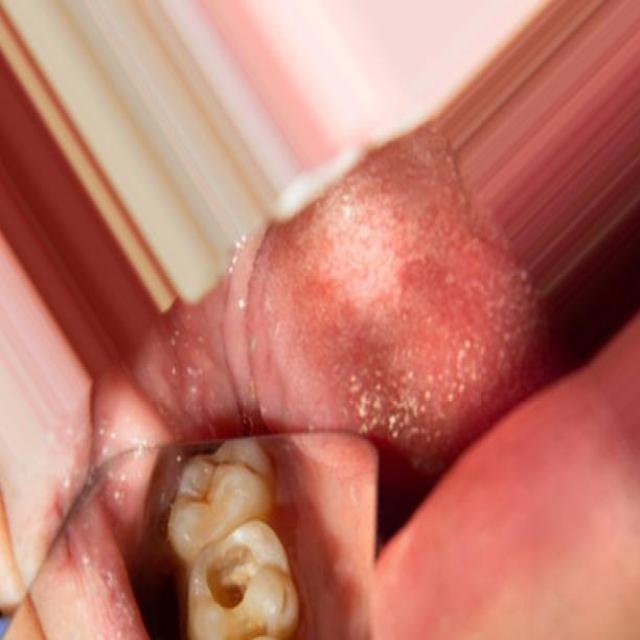caries: (198, 527, 267, 619)
